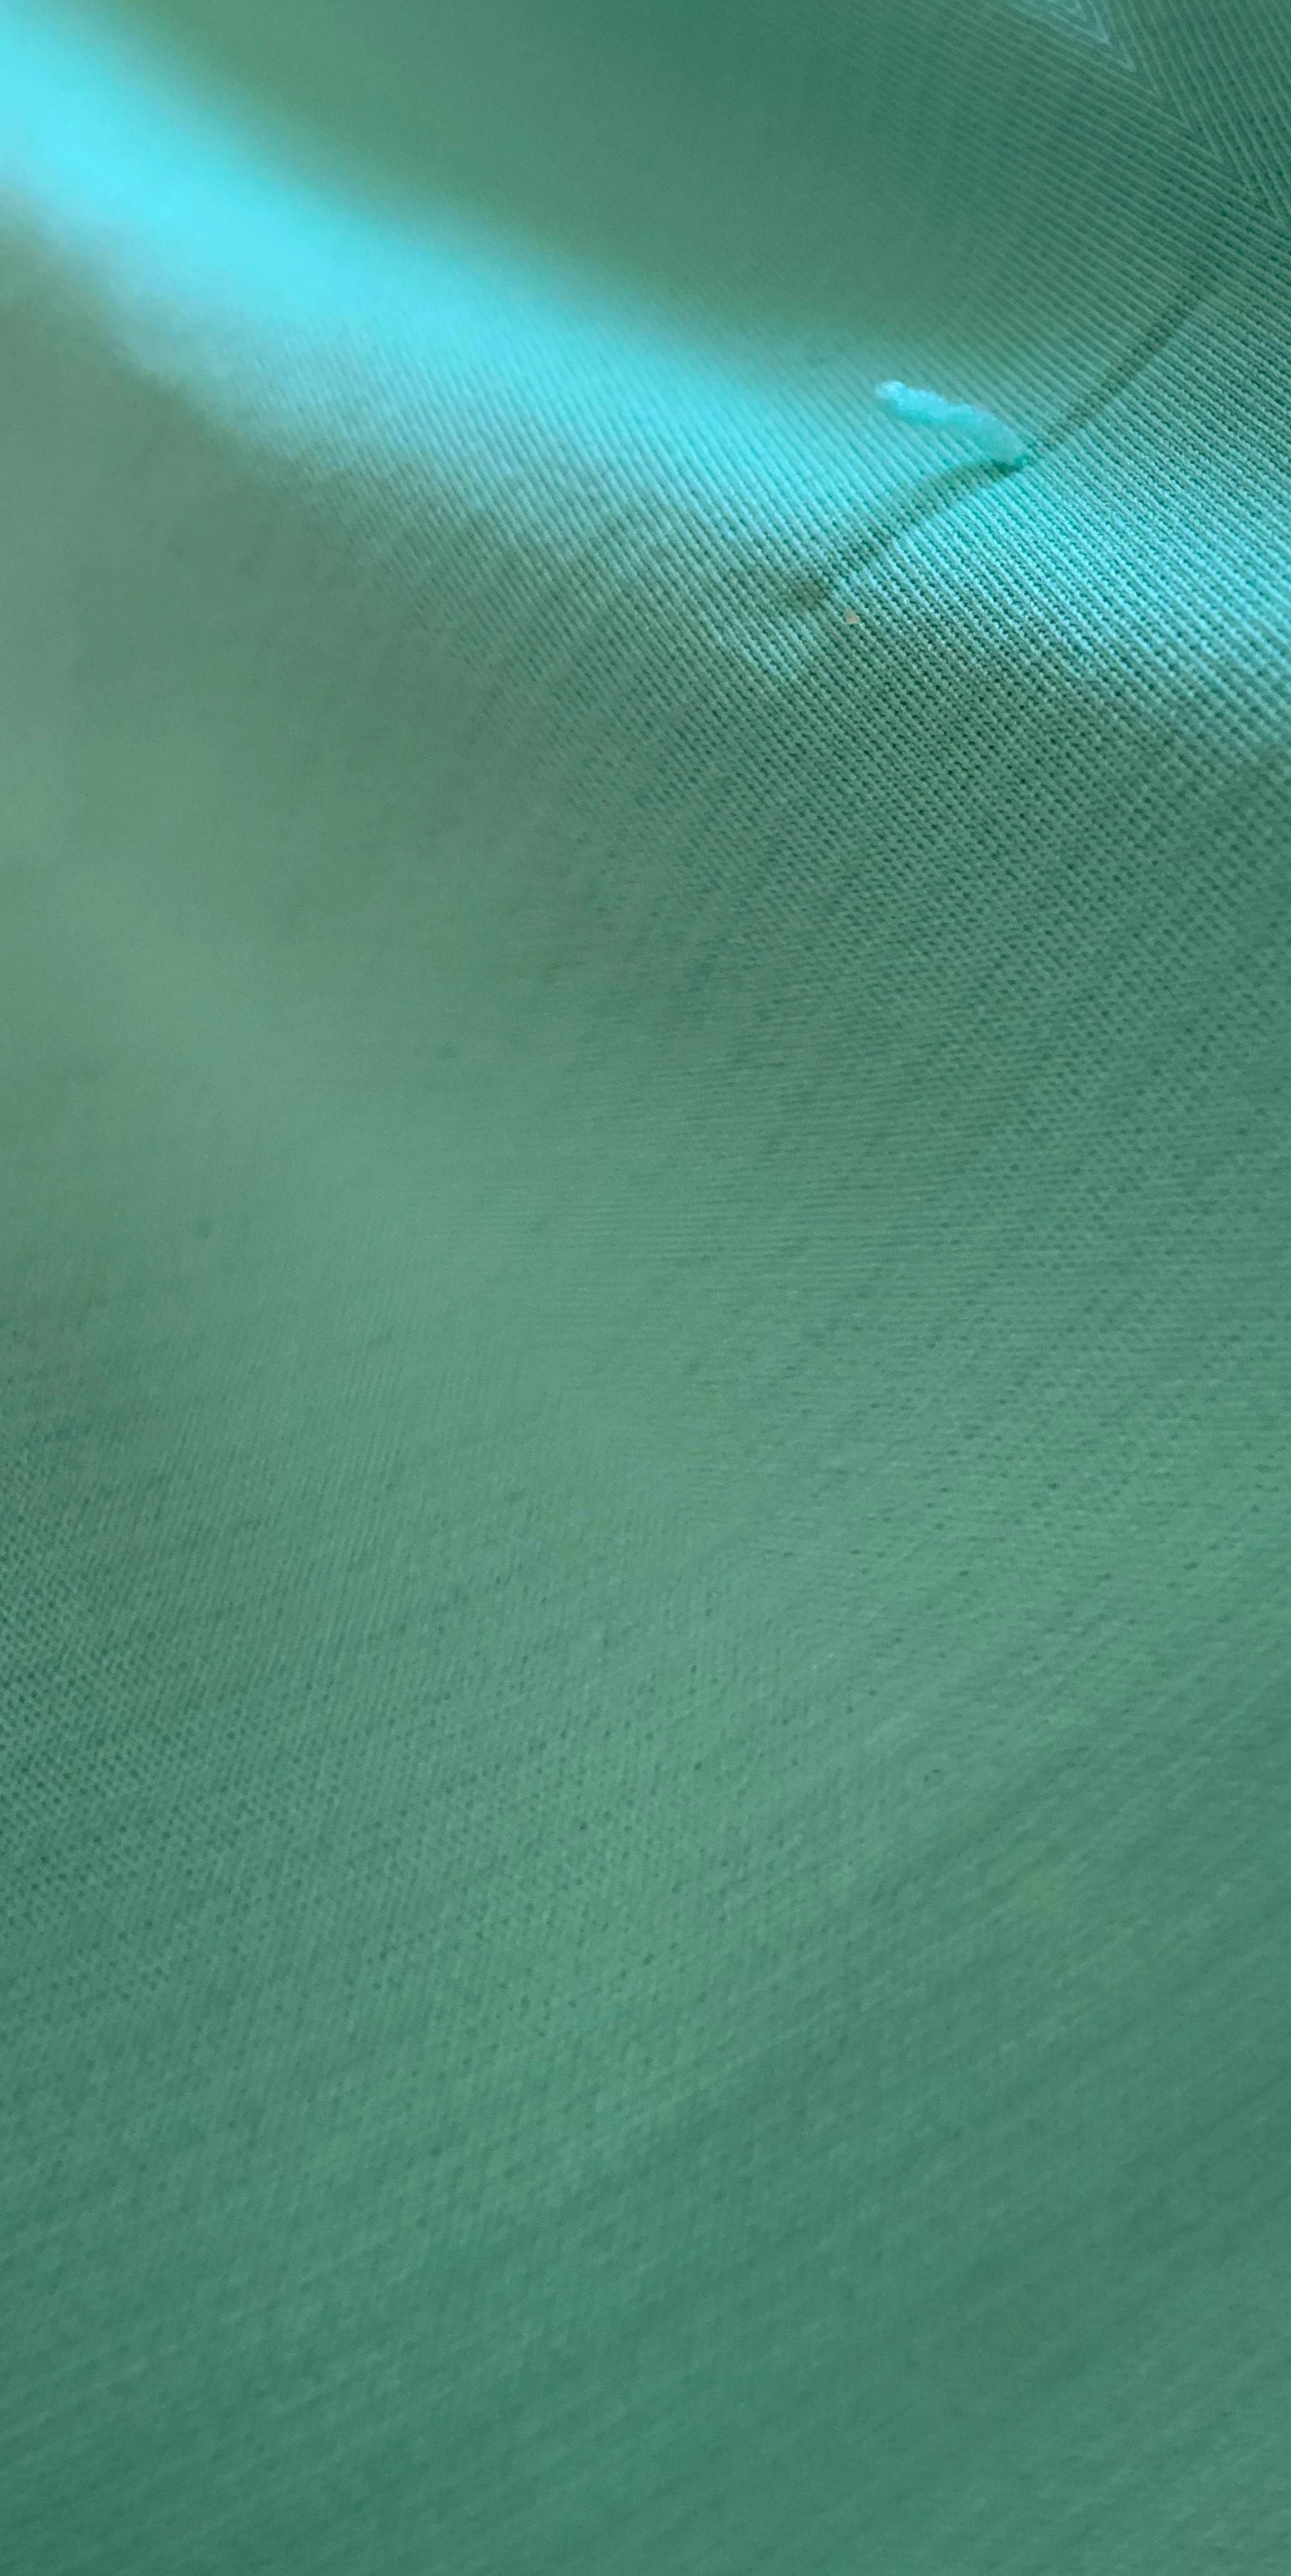snag: (835, 277, 1095, 586)
